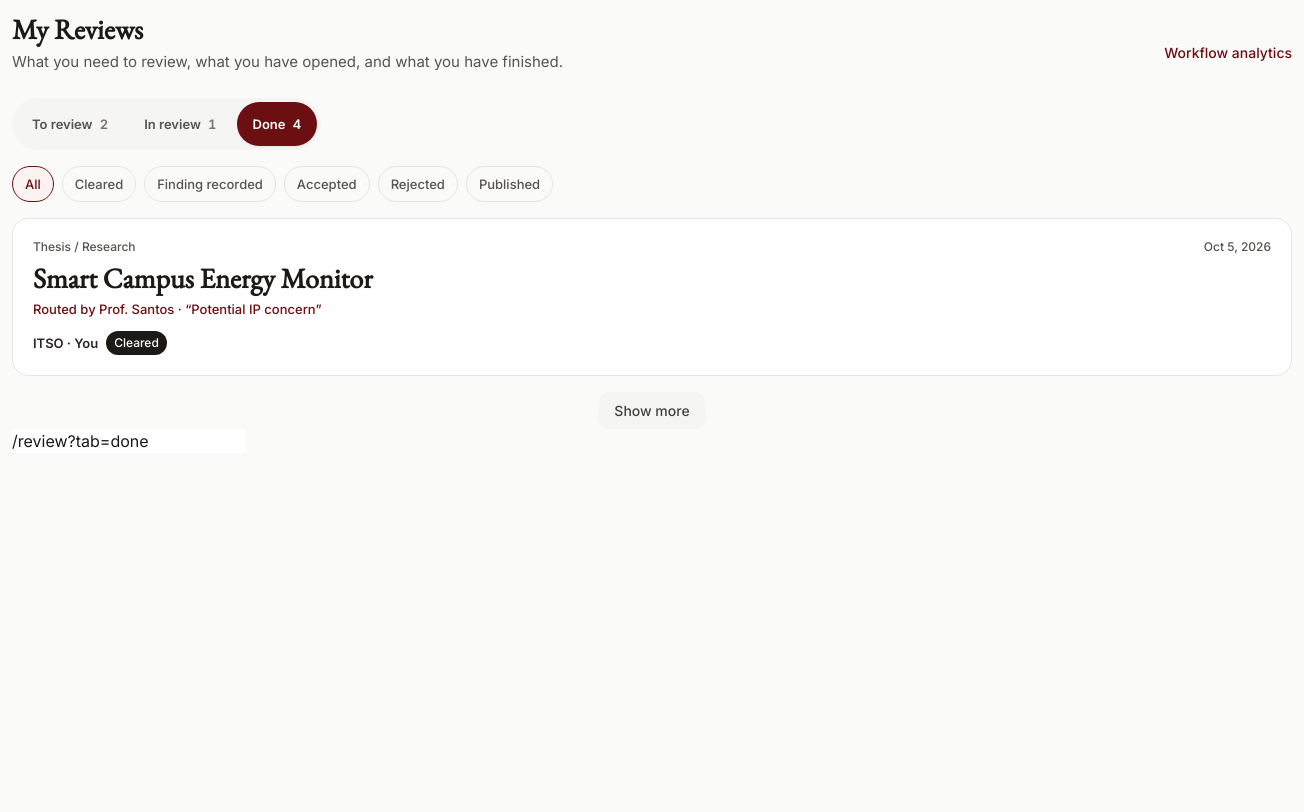
Test: MyReviewsPage › filters Done by outcome, keeps the filter in the URL, and pages with Show more
Expected: the text "Cleared" is shown, [106,331,167,355]
What coordinates should you click on to do the following:
click the button "Finding recorded"
I would click on:
 (210, 184)
Its box is [144,166,276,202].
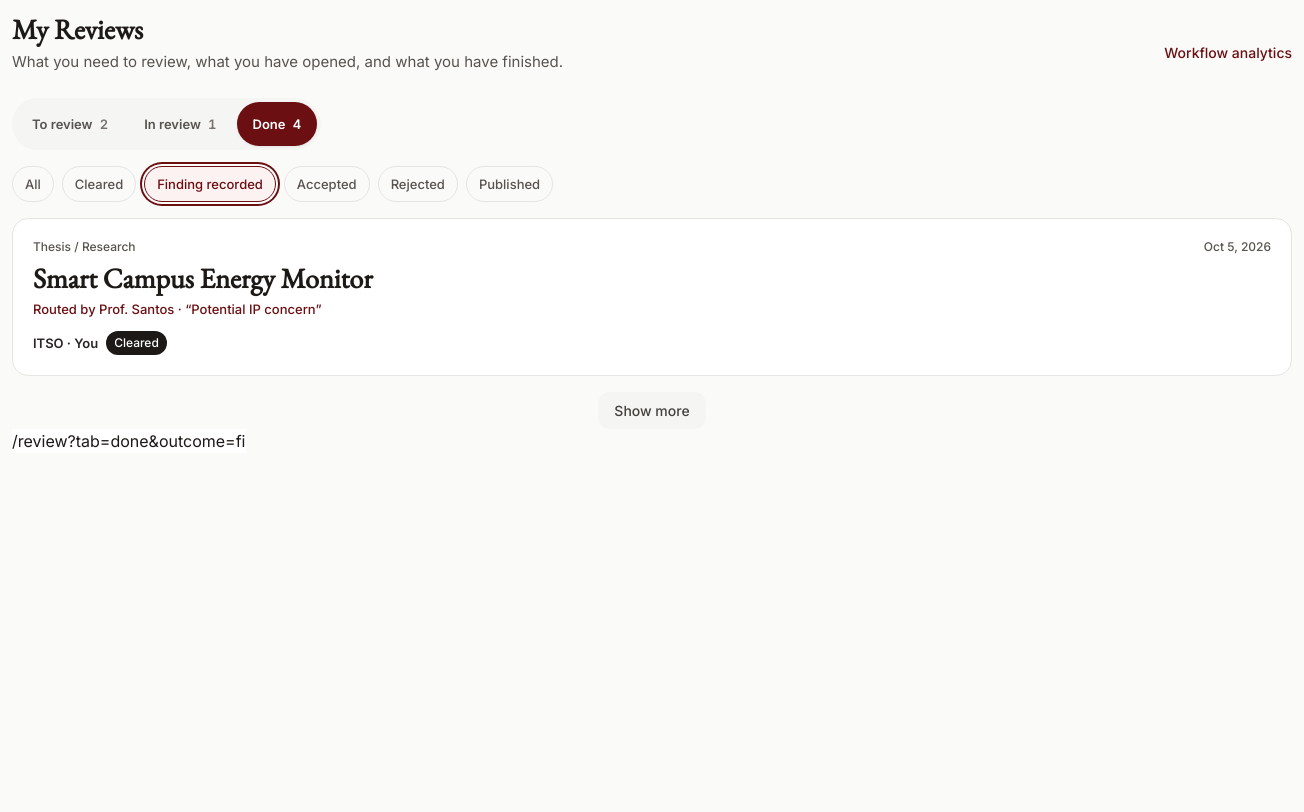
Result: the field named "Location" holds "/review?tab=done&outcome=finding" at [12,429,246,453]
What coordinates should you click on to do the following:
click the button "Show more"
I would click on:
 (652, 410)
Its box is [598,392,706,429].
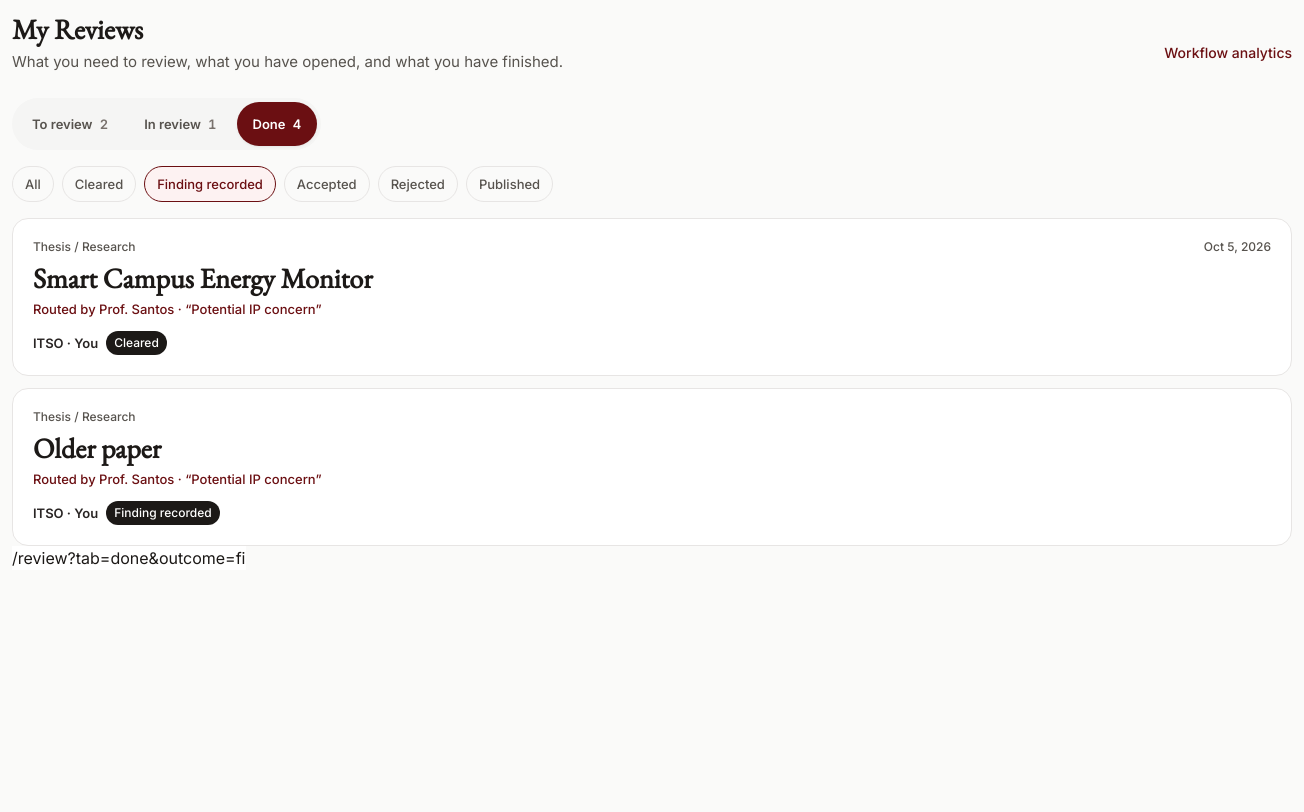
Result: the link "Older paper" is shown at [33,430,161,466]
